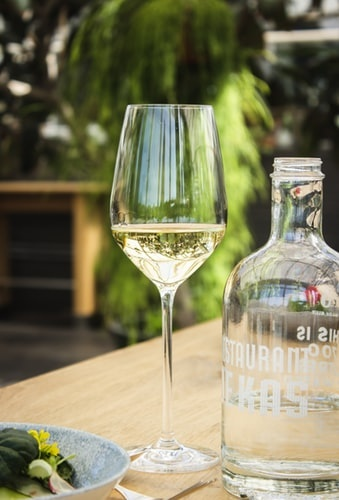whiskey: (108, 103, 230, 469)
